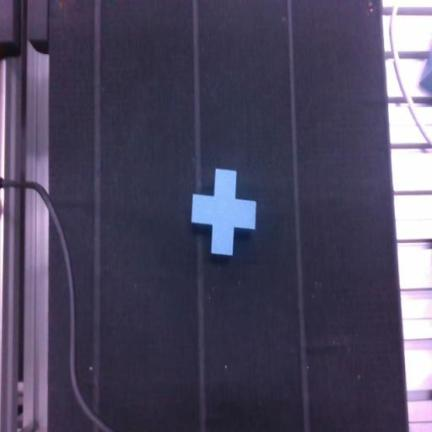cross: (192, 169, 256, 255)
